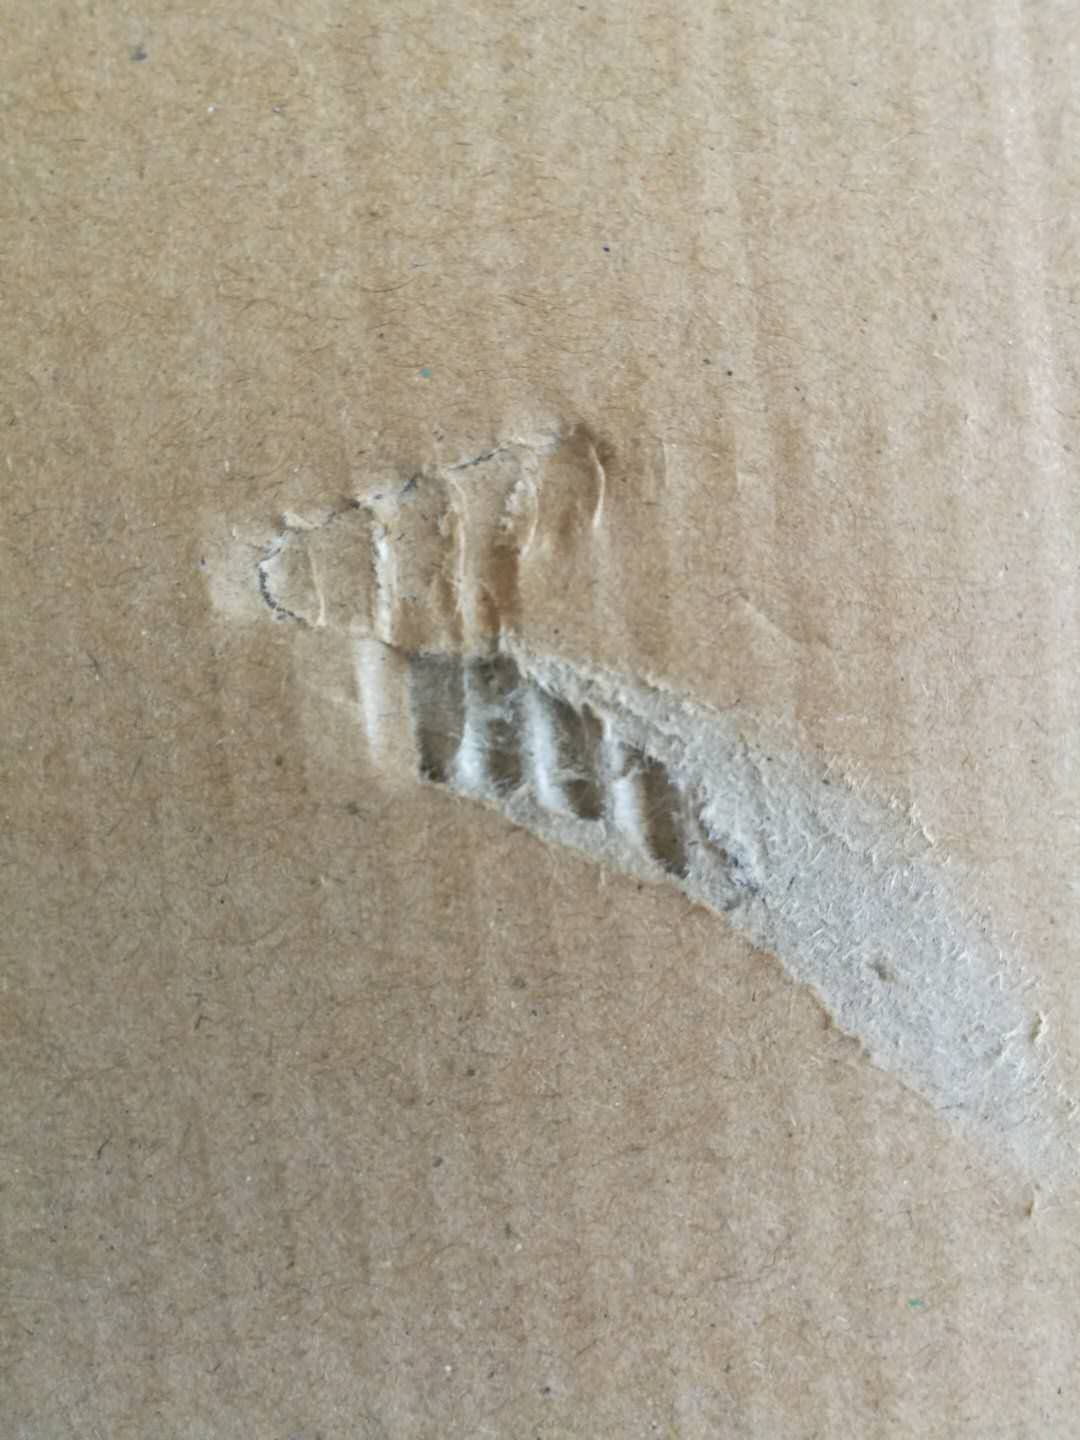defect: (174, 375, 1080, 1291)
